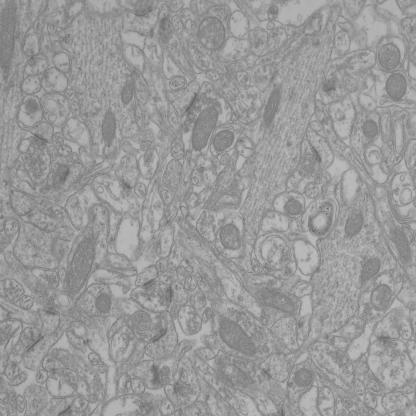mitochondria: (64, 240, 96, 298), (219, 316, 256, 356), (191, 106, 219, 152), (257, 286, 294, 314), (199, 16, 226, 50), (100, 110, 118, 148), (262, 89, 281, 125), (378, 42, 402, 70), (219, 223, 242, 251), (391, 229, 411, 260), (370, 284, 393, 310), (385, 73, 407, 100), (344, 210, 364, 237), (360, 257, 381, 281), (213, 130, 235, 152), (293, 367, 313, 388), (94, 293, 113, 314), (120, 80, 134, 106), (362, 118, 379, 139), (282, 199, 302, 216)
